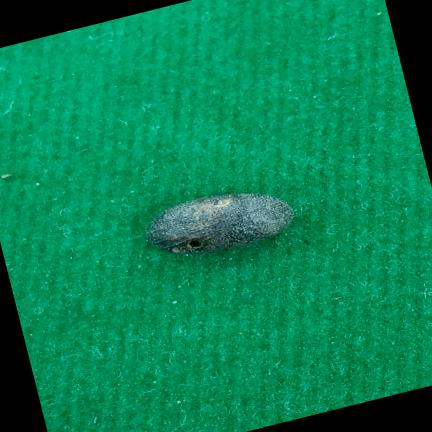partial-black: (147, 193, 293, 254)
